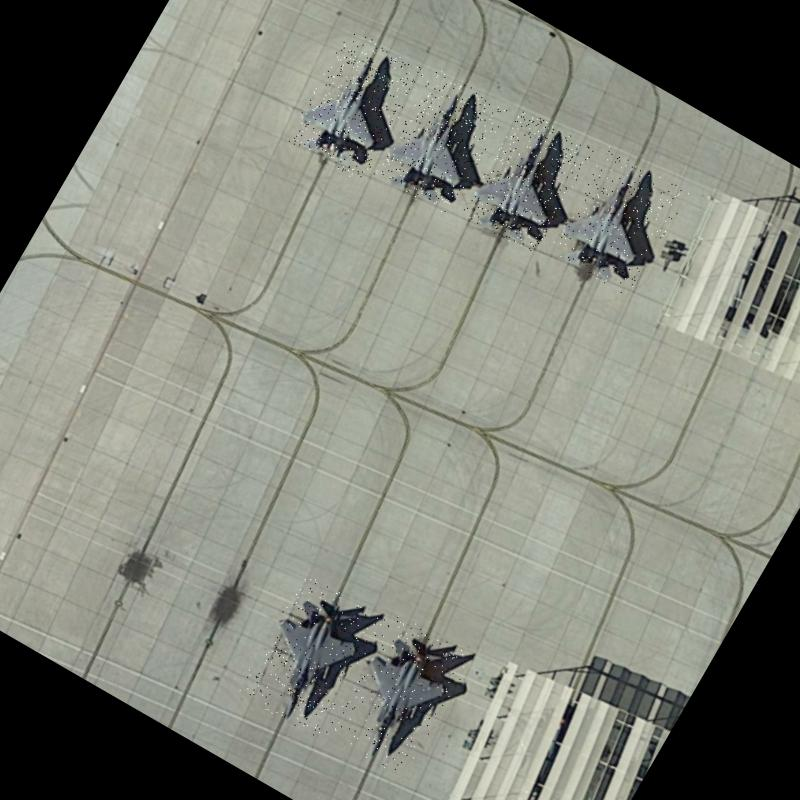A13: (235, 572, 386, 740), (325, 612, 473, 779), (286, 27, 426, 184), (548, 146, 690, 298), (373, 67, 509, 217), (461, 108, 595, 257)
